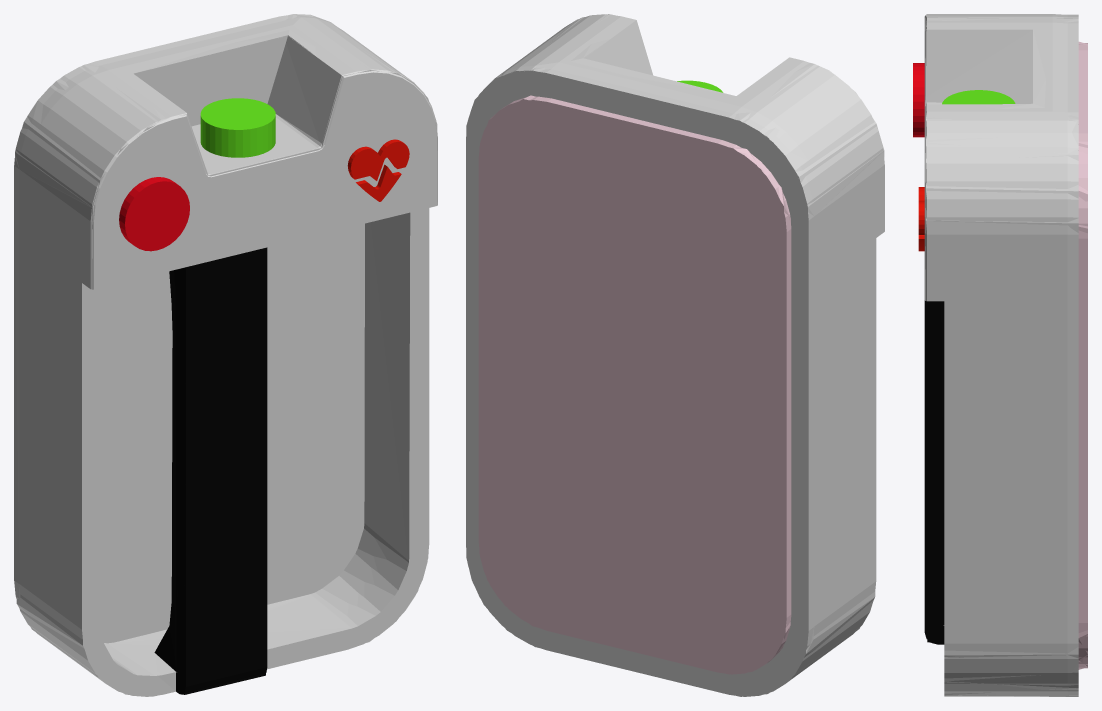
File: defibrillator_right.fbx
3 views of the same model, side by side, from view 1: azimuth 30°, elevation 25°; view 2: azimuth 150°, elevation 25°; view 3: azimuth 270°, elevation 25° (orthographic).
Parts seen in each view (by area): view 1: defibrillator, defibrillator_right_low; view 2: defibrillator, defibrillator_right_low; view 3: defibrillator, defibrillator_right_low.
Boxes of the visible parts, bbox=[...] form: defibrillator: bbox=[14, 14, 437, 696]; defibrillator_right_low: bbox=[15, 14, 437, 696]; defibrillator: bbox=[466, 14, 884, 696]; defibrillator_right_low: bbox=[466, 14, 884, 696]; defibrillator: bbox=[913, 14, 1087, 696]; defibrillator_right_low: bbox=[925, 14, 1087, 696].
Bounding box in the file's own units: 8708 × 14023 × 3848.
